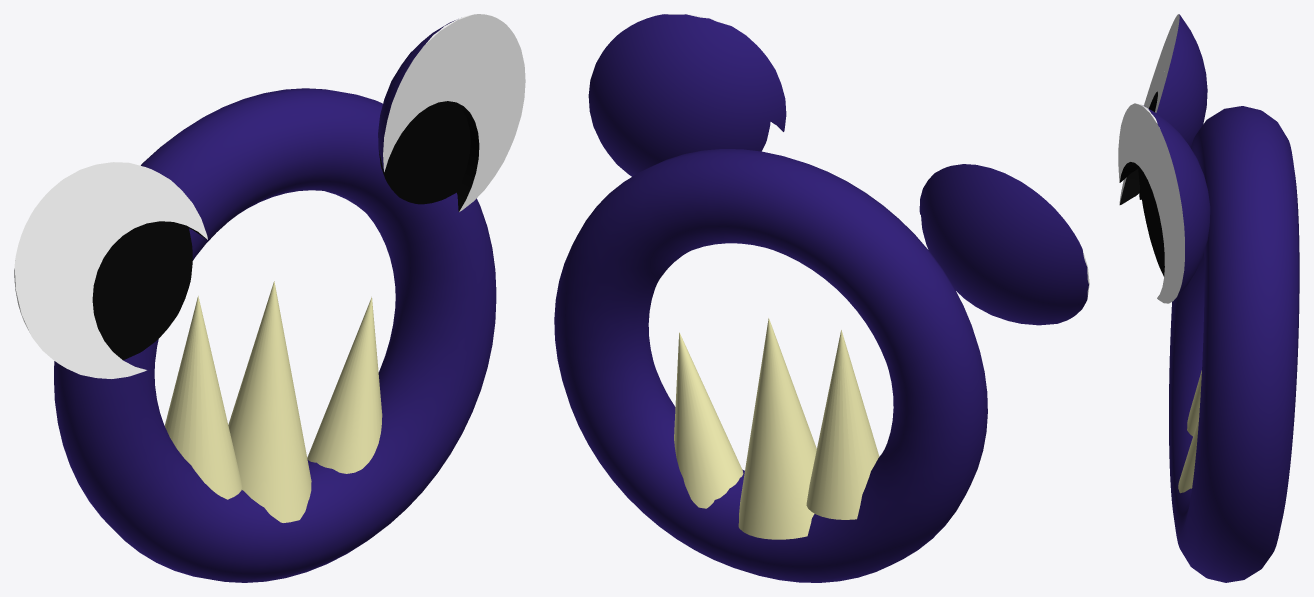
The model's file is Chompo.glb.
3 views of the same model, side by side, from view 1: azimuth 30°, elevation 25°; view 2: azimuth 150°, elevation 25°; view 3: azimuth 270°, elevation 25° (orthographic). The views are drawn at different scales.
Visible parts, largest first — view 1: object2, object3, object4, object0, object1; view 2: object2, object1, object4; view 3: object2, object1, object3, object0, object4.
Boxes of the visible parts, <box> form: object2: <box>54,88,496,582</box>; object3: <box>14,14,525,378</box>; object4: <box>164,281,382,522</box>; object0: <box>92,101,479,359</box>; object1: <box>378,20,455,170</box>; object2: <box>554,149,987,582</box>; object1: <box>588,14,1088,325</box>; object4: <box>674,318,879,539</box>; object2: <box>1169,106,1299,582</box>; object1: <box>1143,14,1210,299</box>; object3: <box>1118,14,1184,303</box>; object0: <box>1119,91,1164,276</box>; object4: <box>1178,370,1201,493</box>.
Bounding box in the file's own units: 4.66 × 4.63 × 1.49.
